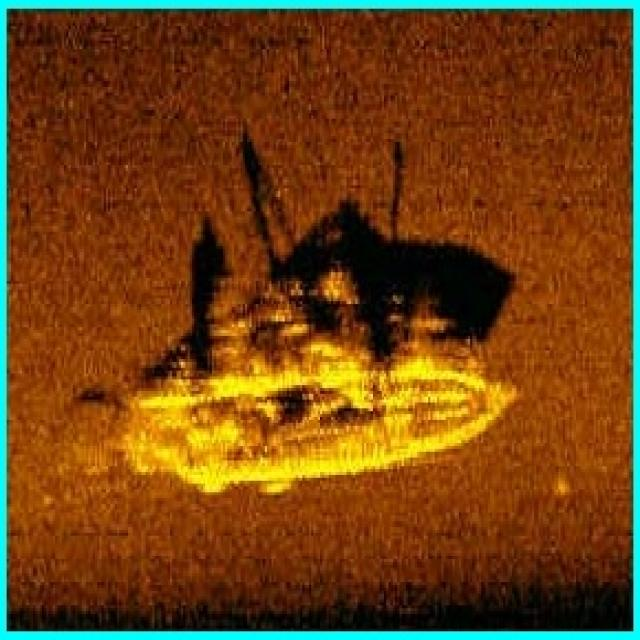ship: (119, 272, 523, 487)
